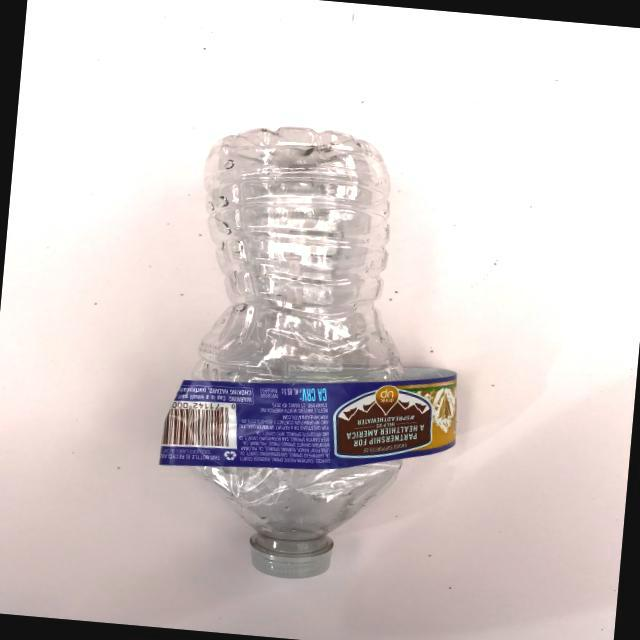plastic: (118, 98, 506, 600)
